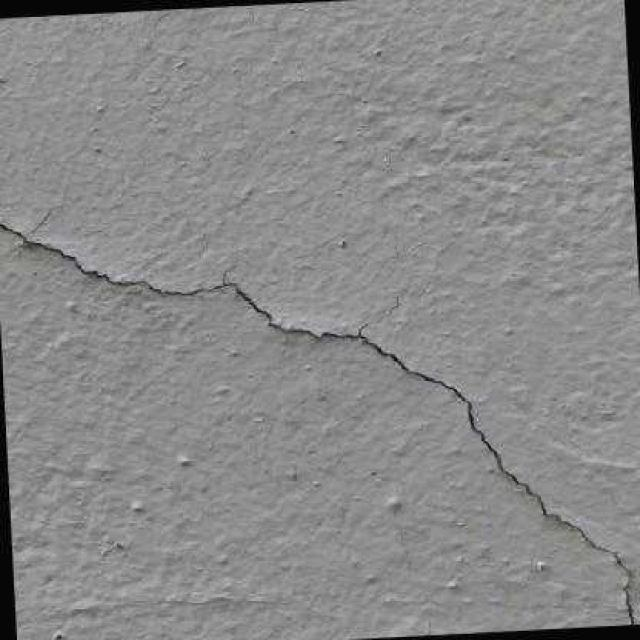D00: (0, 213, 640, 623)
